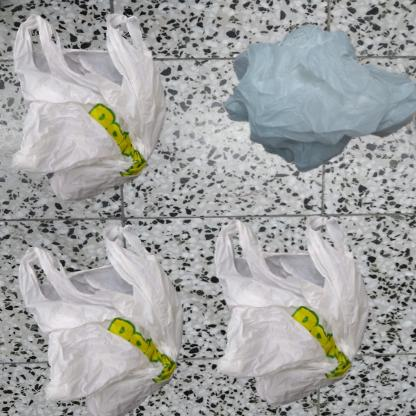bolsa: (10, 213, 216, 416), (213, 10, 416, 201), (10, 10, 169, 206), (213, 213, 372, 409)
